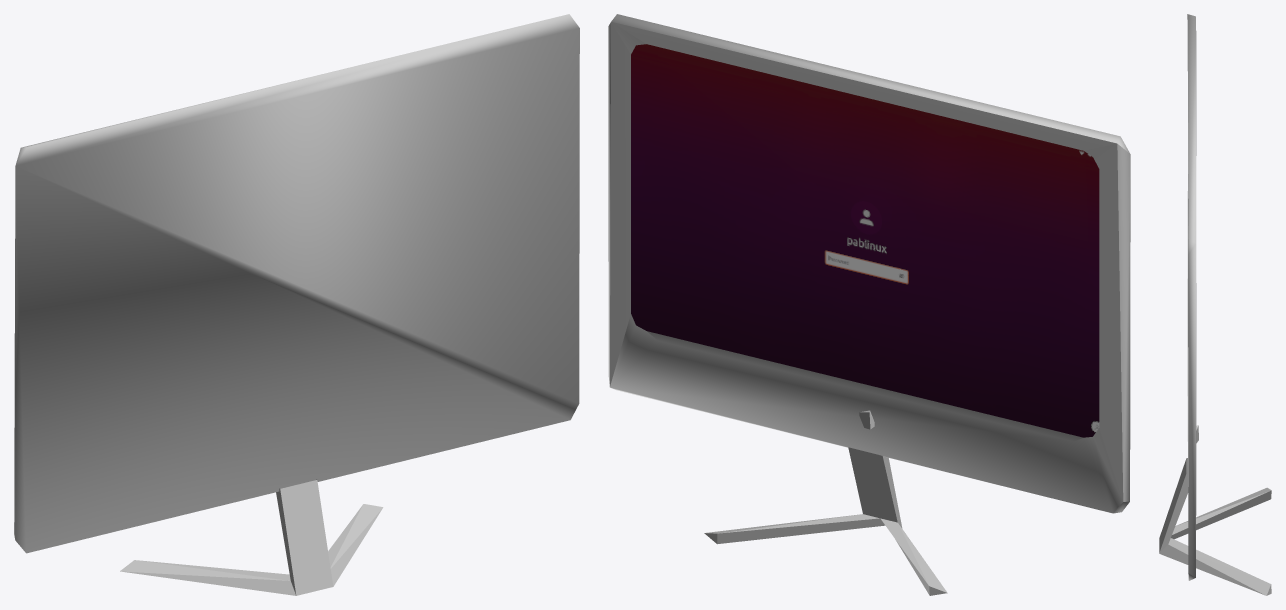
File: All_In_One_LOD2.fbx
The picture shows the model from 3 angles, left to right: view 1: azimuth 30°, elevation 25°; view 2: azimuth 150°, elevation 25°; view 3: azimuth 270°, elevation 25°; orthographic projection. The views are drawn at different scales.
Visible parts, largest first — view 1: Laptop.001; view 2: Laptop.001; view 3: Laptop.001.
Part boxes in pixels (x1=…): Laptop.001: x1=14, y1=14, x2=579, y2=595; Laptop.001: x1=608, y1=14, x2=1130, y2=595; Laptop.001: x1=1159, y1=14, x2=1271, y2=595.
Bounding box in the file's own units: 106 × 89.9 × 21.77.
